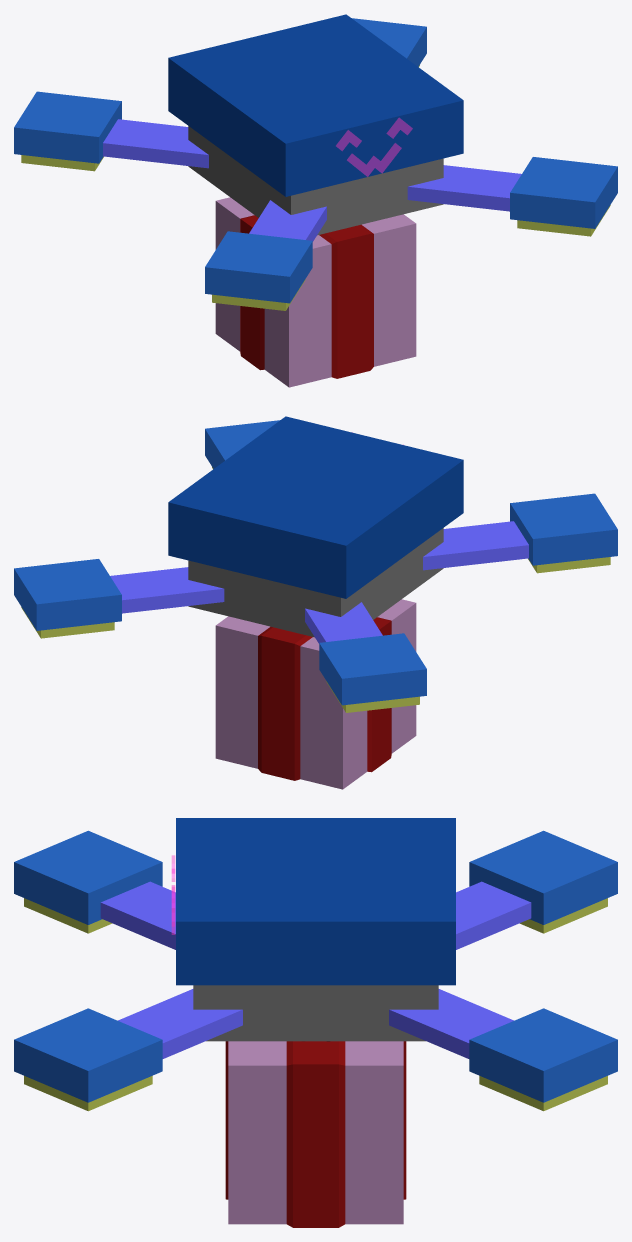
The model's file is ScavengeFull.FBX.
3 views of the same model, one above another, from view 1: azimuth 30°, elevation 25°; view 2: azimuth 150°, elevation 25°; view 3: azimuth 270°, elevation 25° (orthographic). The views are drawn at different scales.
Visible parts, largest first — view 1: Drone, Present, Mouf; view 2: Drone, Present; view 3: Drone, Present.
Boxes of the visible parts, <box> form: Drone: <box>14,14,617,310</box>; Present: <box>215,197,416,387</box>; Mouf: <box>347,143,401,176</box>; Drone: <box>14,416,617,712</box>; Present: <box>215,599,416,789</box>; Drone: <box>14,818,617,1111</box>; Present: <box>225,1041,406,1227</box>.
Bounding box in the file's own units: 81.21 × 50.38 × 86.21.
